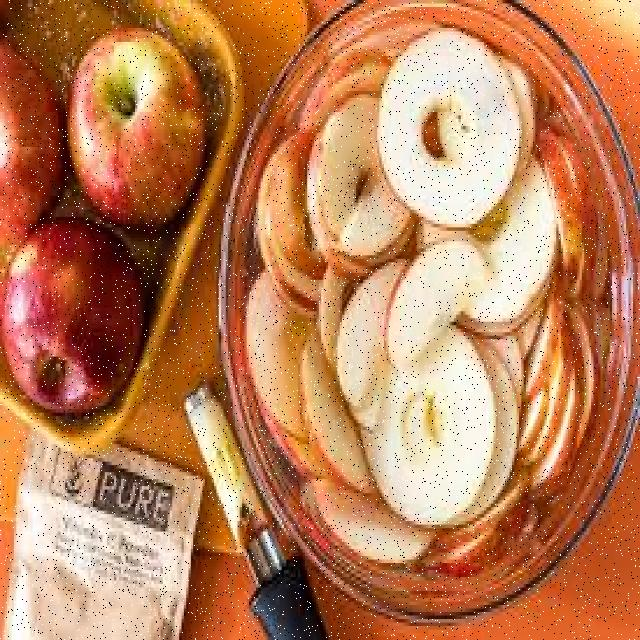Apple: (378, 28, 520, 226), (4, 219, 139, 421), (68, 28, 204, 227), (373, 360, 494, 524), (525, 298, 604, 484), (388, 237, 487, 367), (0, 39, 69, 220), (296, 335, 371, 495), (246, 264, 306, 458), (538, 130, 604, 285), (430, 477, 532, 577), (316, 91, 378, 246), (310, 488, 429, 566), (336, 265, 394, 413), (267, 138, 314, 278), (298, 51, 389, 105), (320, 260, 348, 332)
